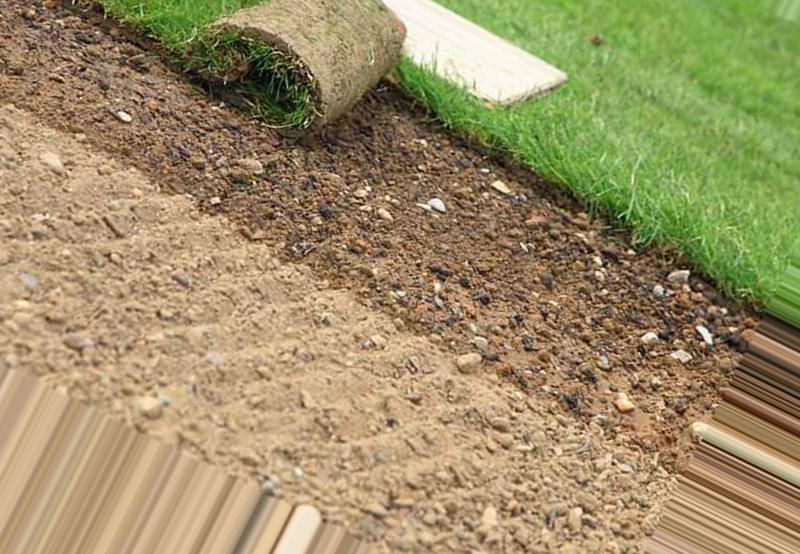patch: (88, 251, 307, 351), (274, 142, 491, 242), (339, 432, 532, 543), (40, 51, 191, 181), (369, 289, 496, 401), (529, 259, 642, 373), (151, 388, 290, 441), (563, 442, 649, 505), (51, 201, 160, 241), (17, 255, 75, 327), (189, 197, 252, 238), (371, 247, 435, 281), (600, 381, 652, 412)
